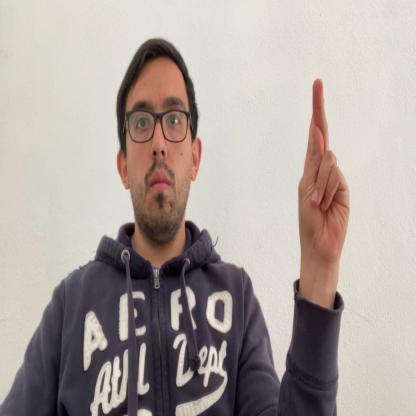P: (298, 73, 351, 267)
